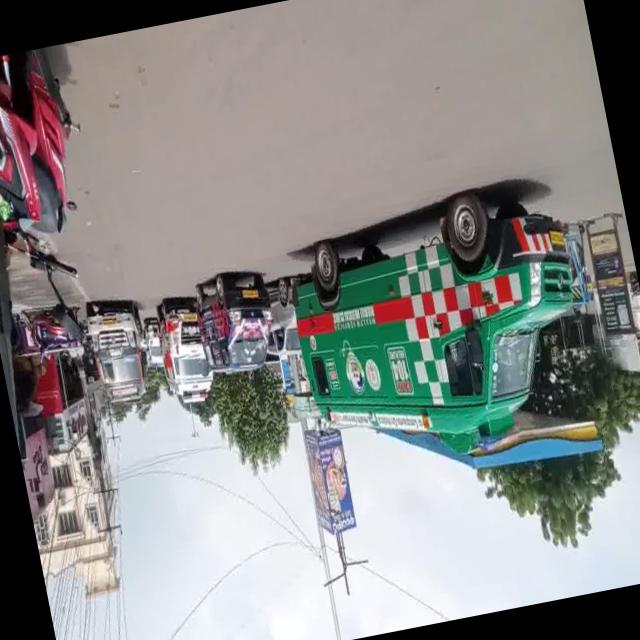ambulance: (278, 197, 593, 466), (80, 300, 155, 412), (150, 293, 217, 417)
